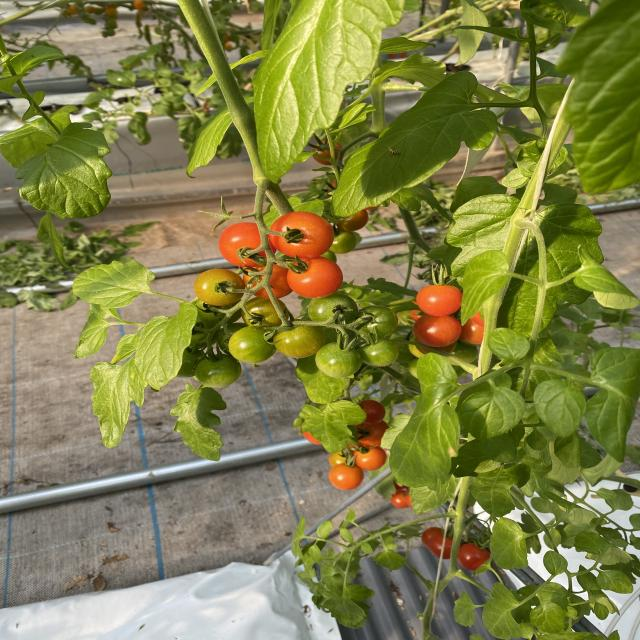c-half-riped: (242, 258, 293, 299), (273, 318, 325, 358), (193, 268, 246, 306), (241, 297, 289, 331), (328, 463, 363, 490), (352, 445, 387, 471), (414, 337, 458, 356), (312, 139, 344, 165), (335, 210, 370, 232), (460, 318, 484, 344), (329, 448, 354, 468)
c-riped: (267, 211, 335, 259), (218, 222, 276, 268), (287, 256, 343, 299), (413, 315, 462, 348), (416, 284, 462, 316), (353, 420, 390, 447), (456, 543, 491, 570), (357, 400, 385, 424), (422, 527, 452, 549), (428, 536, 452, 559)
c-unriped: (307, 292, 358, 329), (228, 326, 277, 363), (316, 342, 363, 378), (194, 353, 241, 388), (190, 297, 242, 326), (354, 306, 398, 339), (356, 336, 400, 366), (188, 317, 222, 348), (217, 323, 248, 355), (176, 347, 205, 378), (445, 341, 478, 366), (327, 231, 357, 254)
